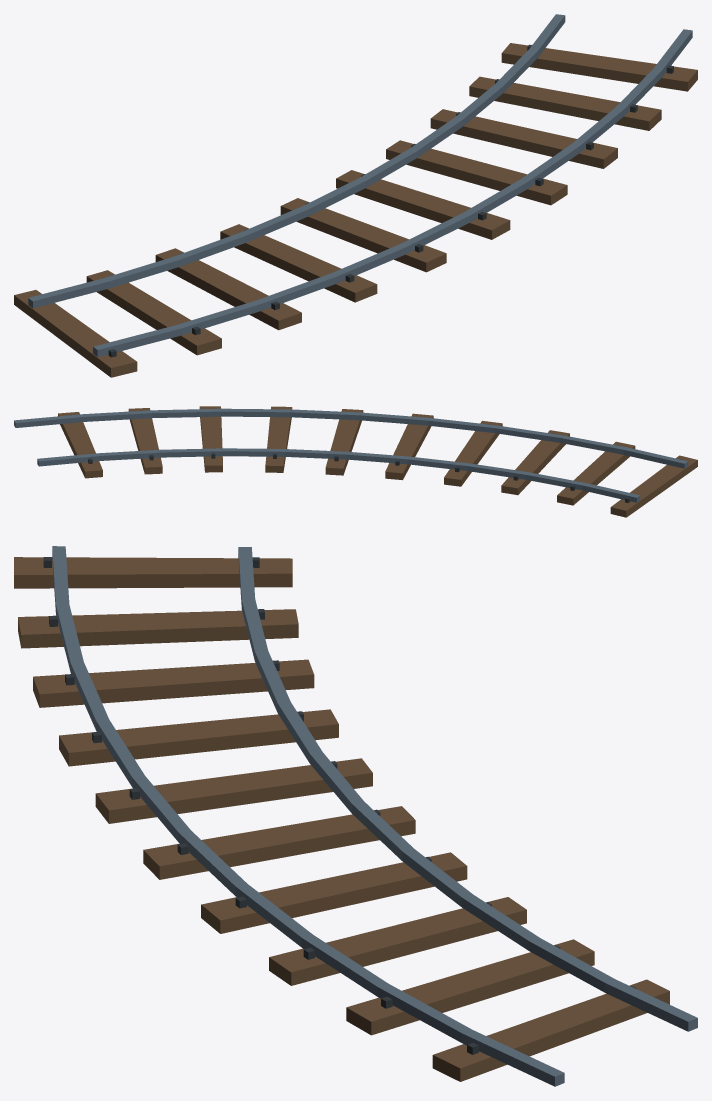
The model's file is Tracks45Left.FBX.
3 views of the same model, one above another, from view 1: azimuth 30°, elevation 25°; view 2: azimuth 150°, elevation 25°; view 3: azimuth 270°, elevation 25° (orthographic). The views are drawn at different scales.
Parts seen in each view (by area): view 1: Box020; view 2: Box020; view 3: Box020.
Part boxes in pixels (bbox=[...]): Box020: bbox=[14, 14, 697, 377]; Box020: bbox=[14, 406, 697, 517]; Box020: bbox=[14, 546, 697, 1086].
Bounding box in the file's own units: 9.6 × 0.2086 × 5.23.
